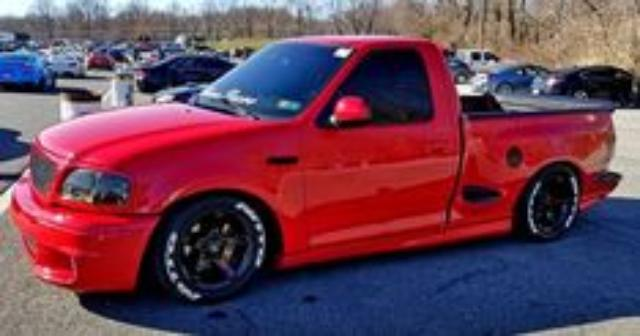pickup-truck: (8, 34, 624, 305)
